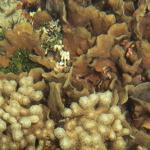alive: (3, 2, 144, 148)
